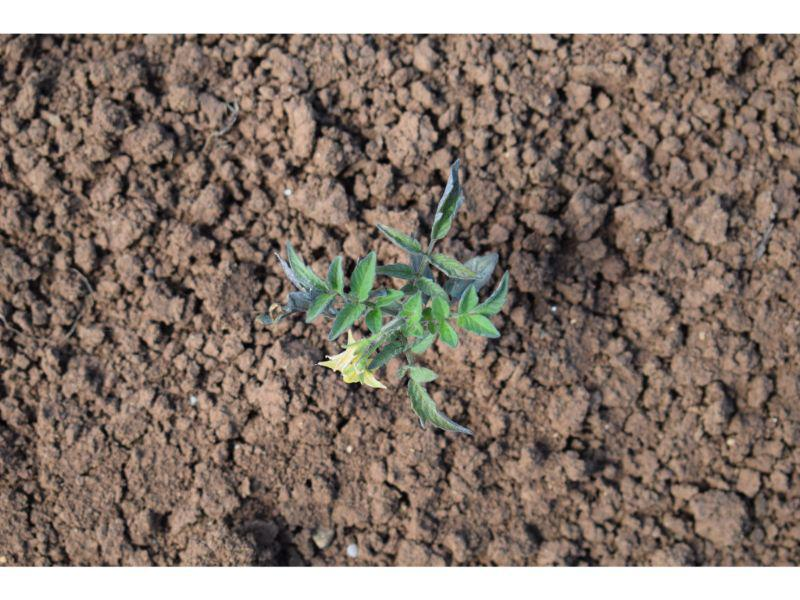tomato: (274, 157, 514, 435)
